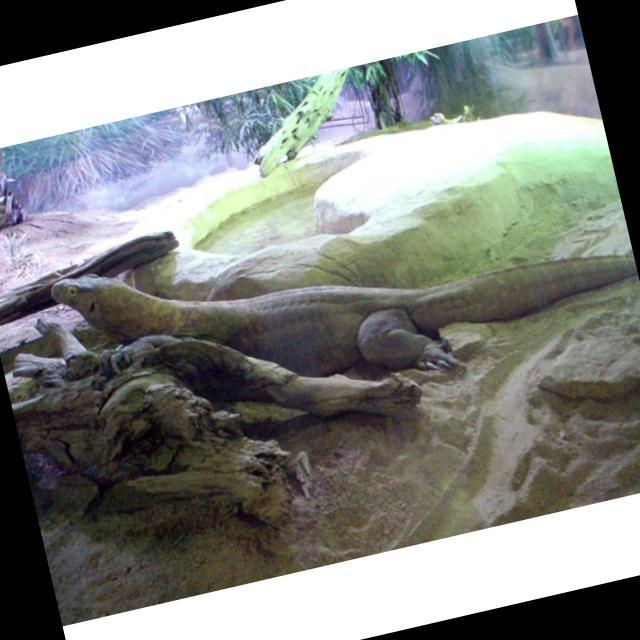KomodoDragon: (42, 146, 640, 461)
